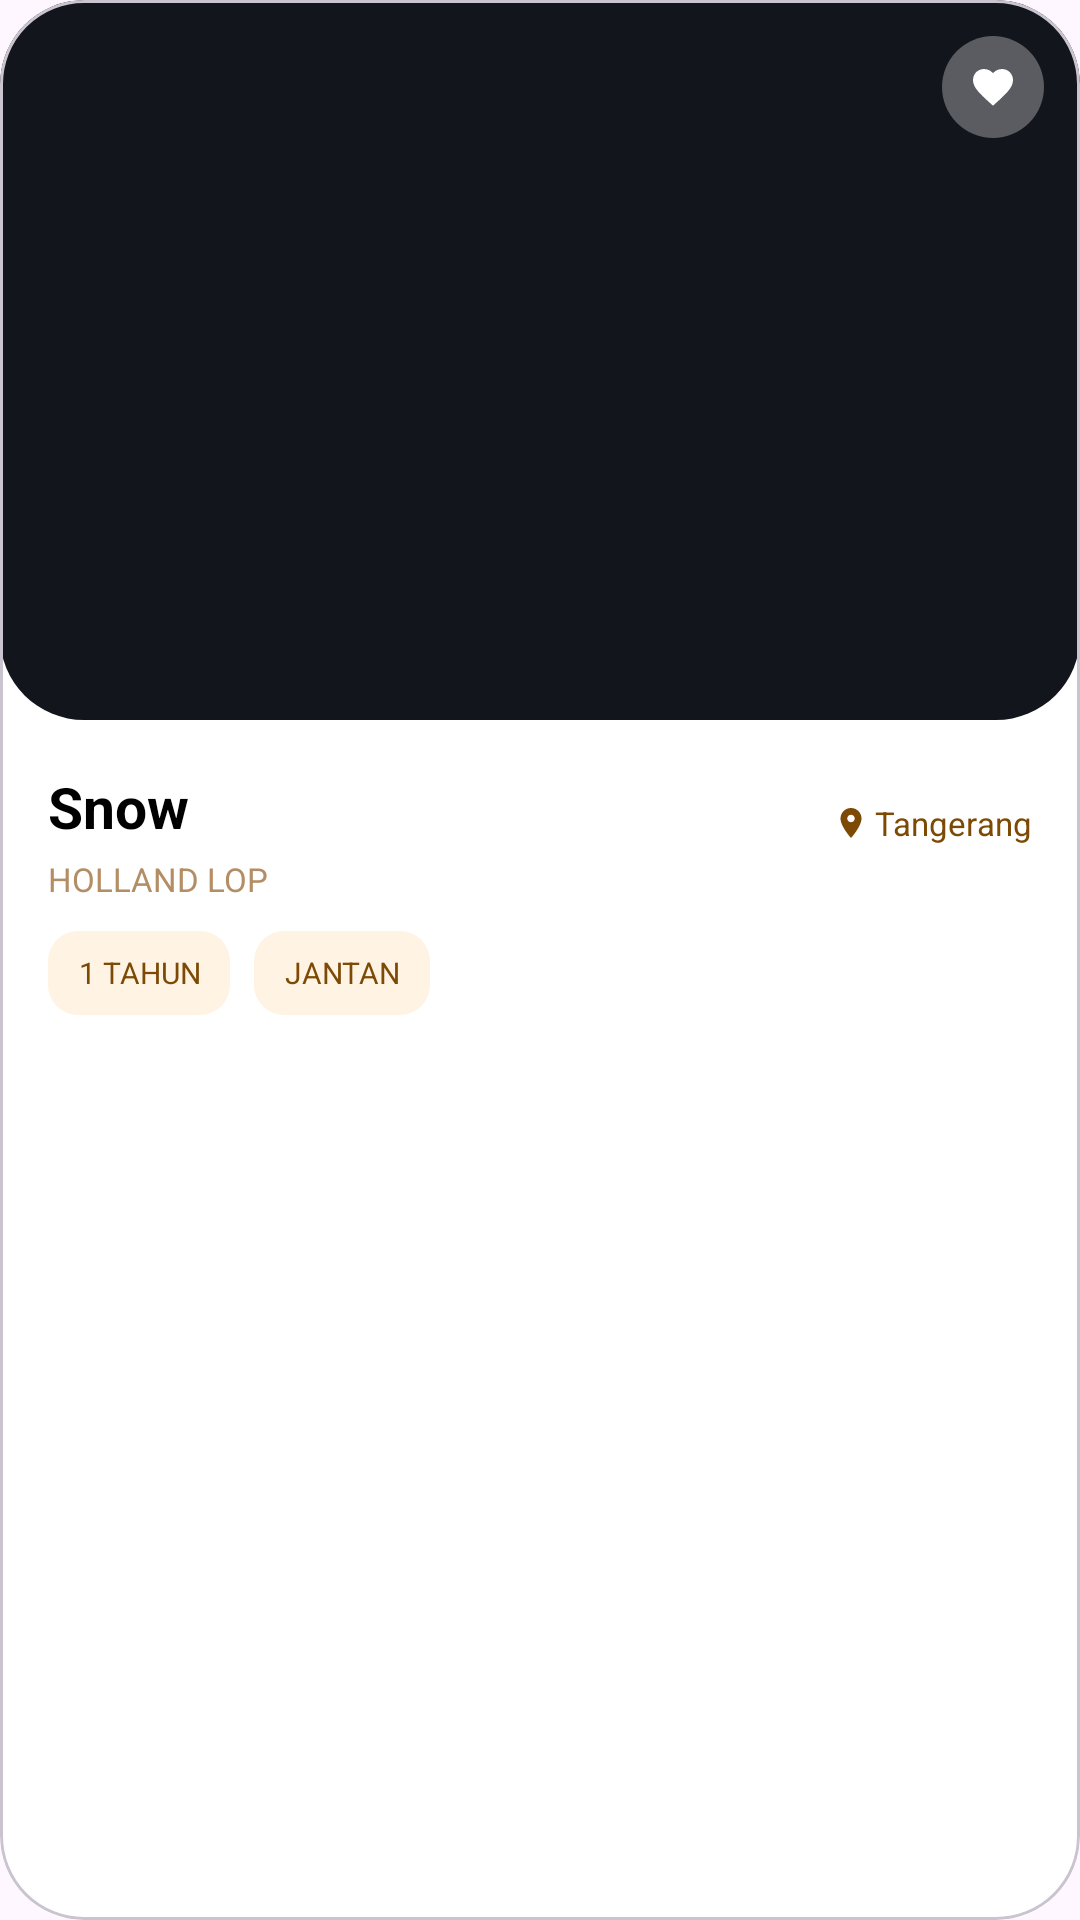

Named icons in this screenshot (1080 x 1920) and their centers, [x,y]:
Favorit: [993,87]
Lokasi: [851,823]
